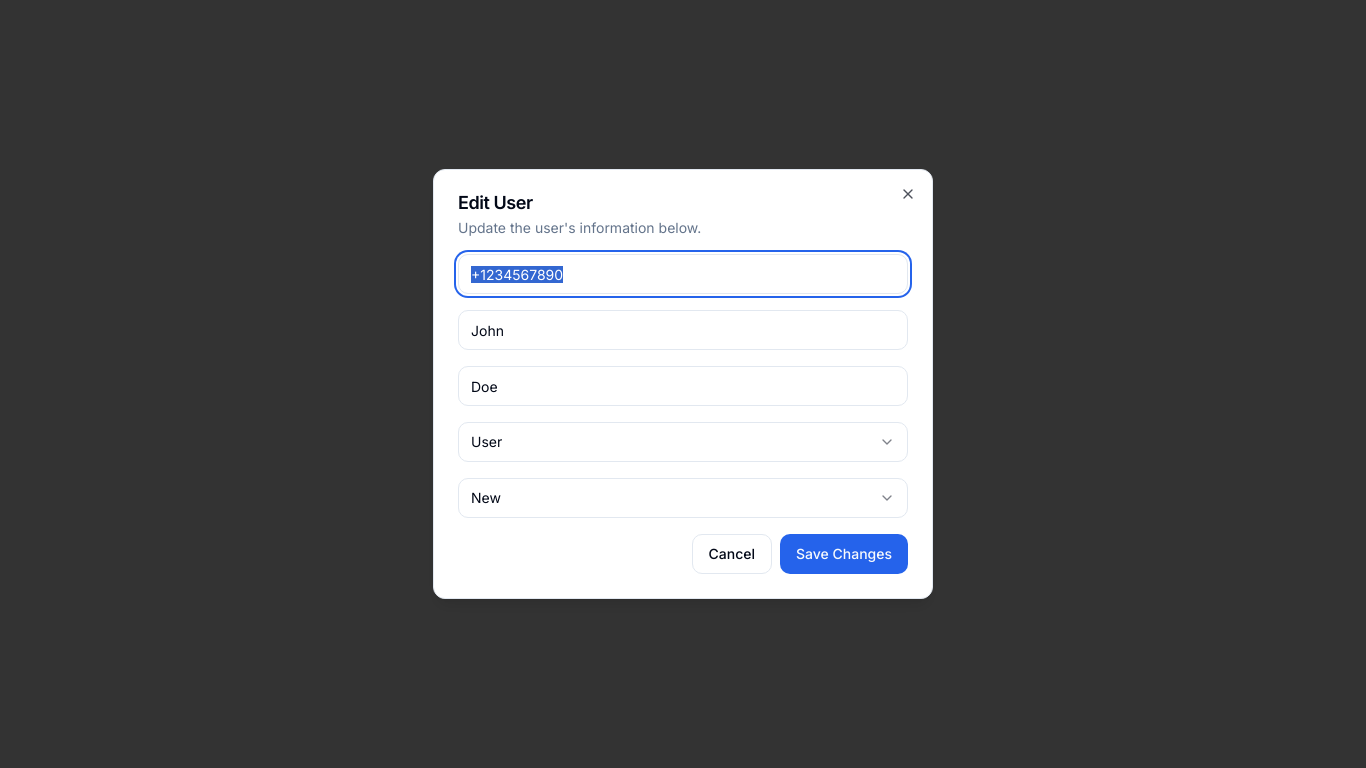
it: EditUserDialog Component › Form Submission › should handle network errors
Click the button "Save Changes".
click(844, 554)  # box [780,534,908,574]
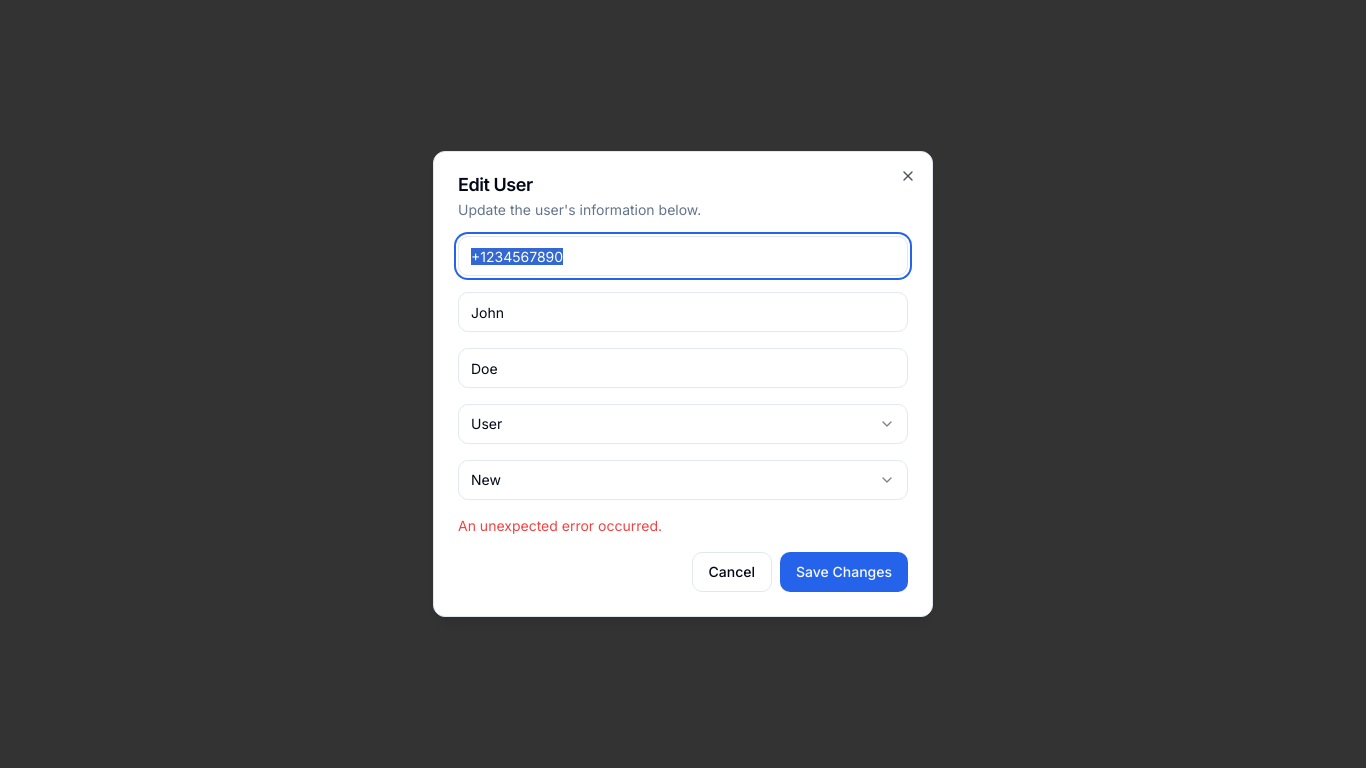
Check: the text "An unexpected error occurred." is shown, box [458,517,662,534]
